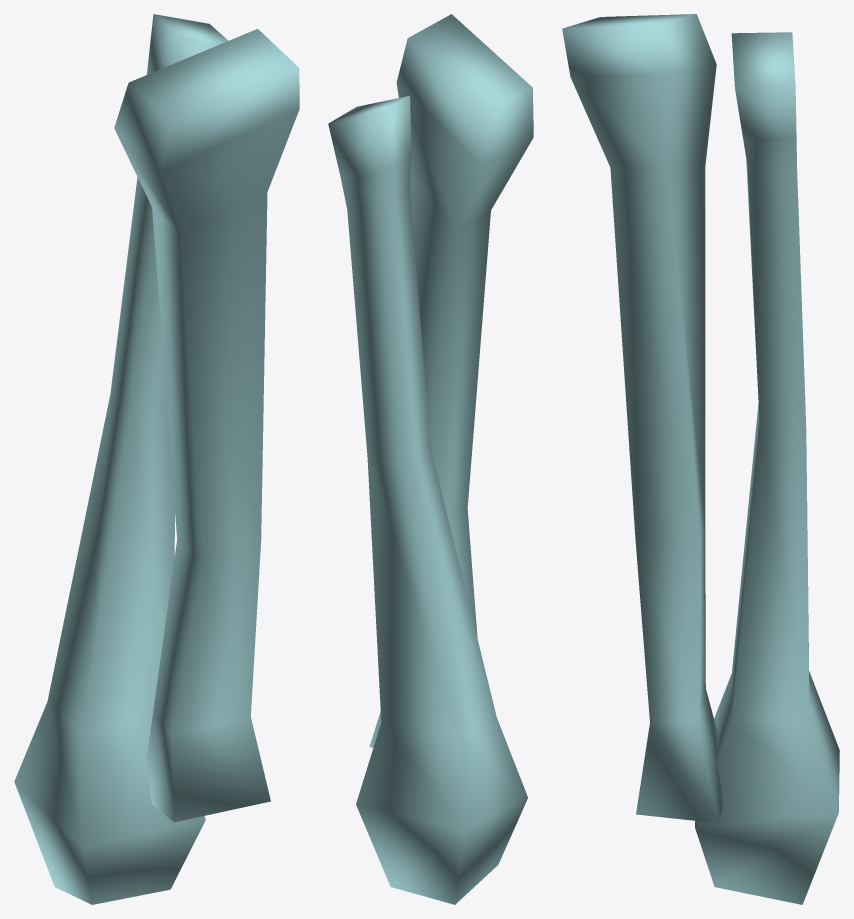
File: Skelly_forearm.R.fbx
3 renders of one model, left to right at view 1: azimuth 30°, elevation 25°; view 2: azimuth 150°, elevation 25°; view 3: azimuth 270°, elevation 25°, orthographic. The views are drawn at different scales.
Parts seen in each view (by area): view 1: Skelly_forearm.R; view 2: Skelly_forearm.R; view 3: Skelly_forearm.R.
Boxes of the visible parts, x1=… form: Skelly_forearm.R: x1=14, y1=14, x2=299, y2=904; Skelly_forearm.R: x1=328, y1=14, x2=533, y2=904; Skelly_forearm.R: x1=562, y1=14, x2=839, y2=904.
Bounding box in the file's own units: 5.78 × 27.88 × 7.75.
